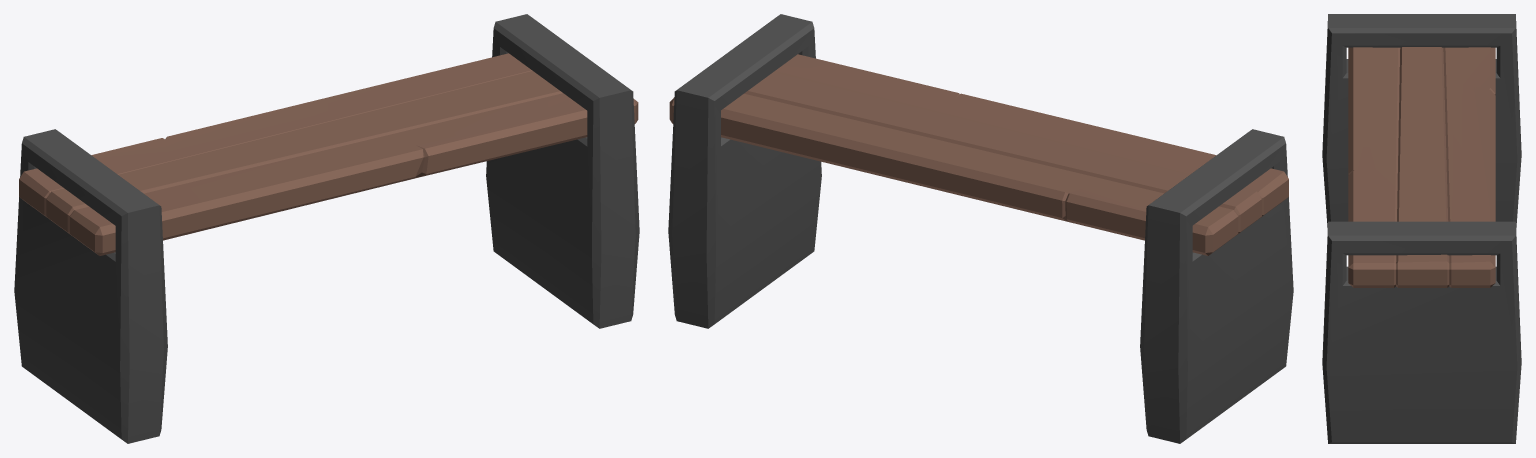
Rendered from bench_c003.glb.
3 views of the same model, side by side, from view 1: azimuth 30°, elevation 25°; view 2: azimuth 150°, elevation 25°; view 3: azimuth 270°, elevation 25° (orthographic). The views are drawn at different scales.
Visible parts, largest first — view 1: bench_c003; view 2: bench_c003; view 3: bench_c003.
Part boxes in pixels (bbox=[...]): bench_c003: bbox=[14, 14, 639, 443]; bench_c003: bbox=[668, 14, 1293, 443]; bench_c003: bbox=[1322, 14, 1521, 443].
Size of the model in its own units: 1.34 by 0.5449 by 0.4716.
1 material, 1 textured.
